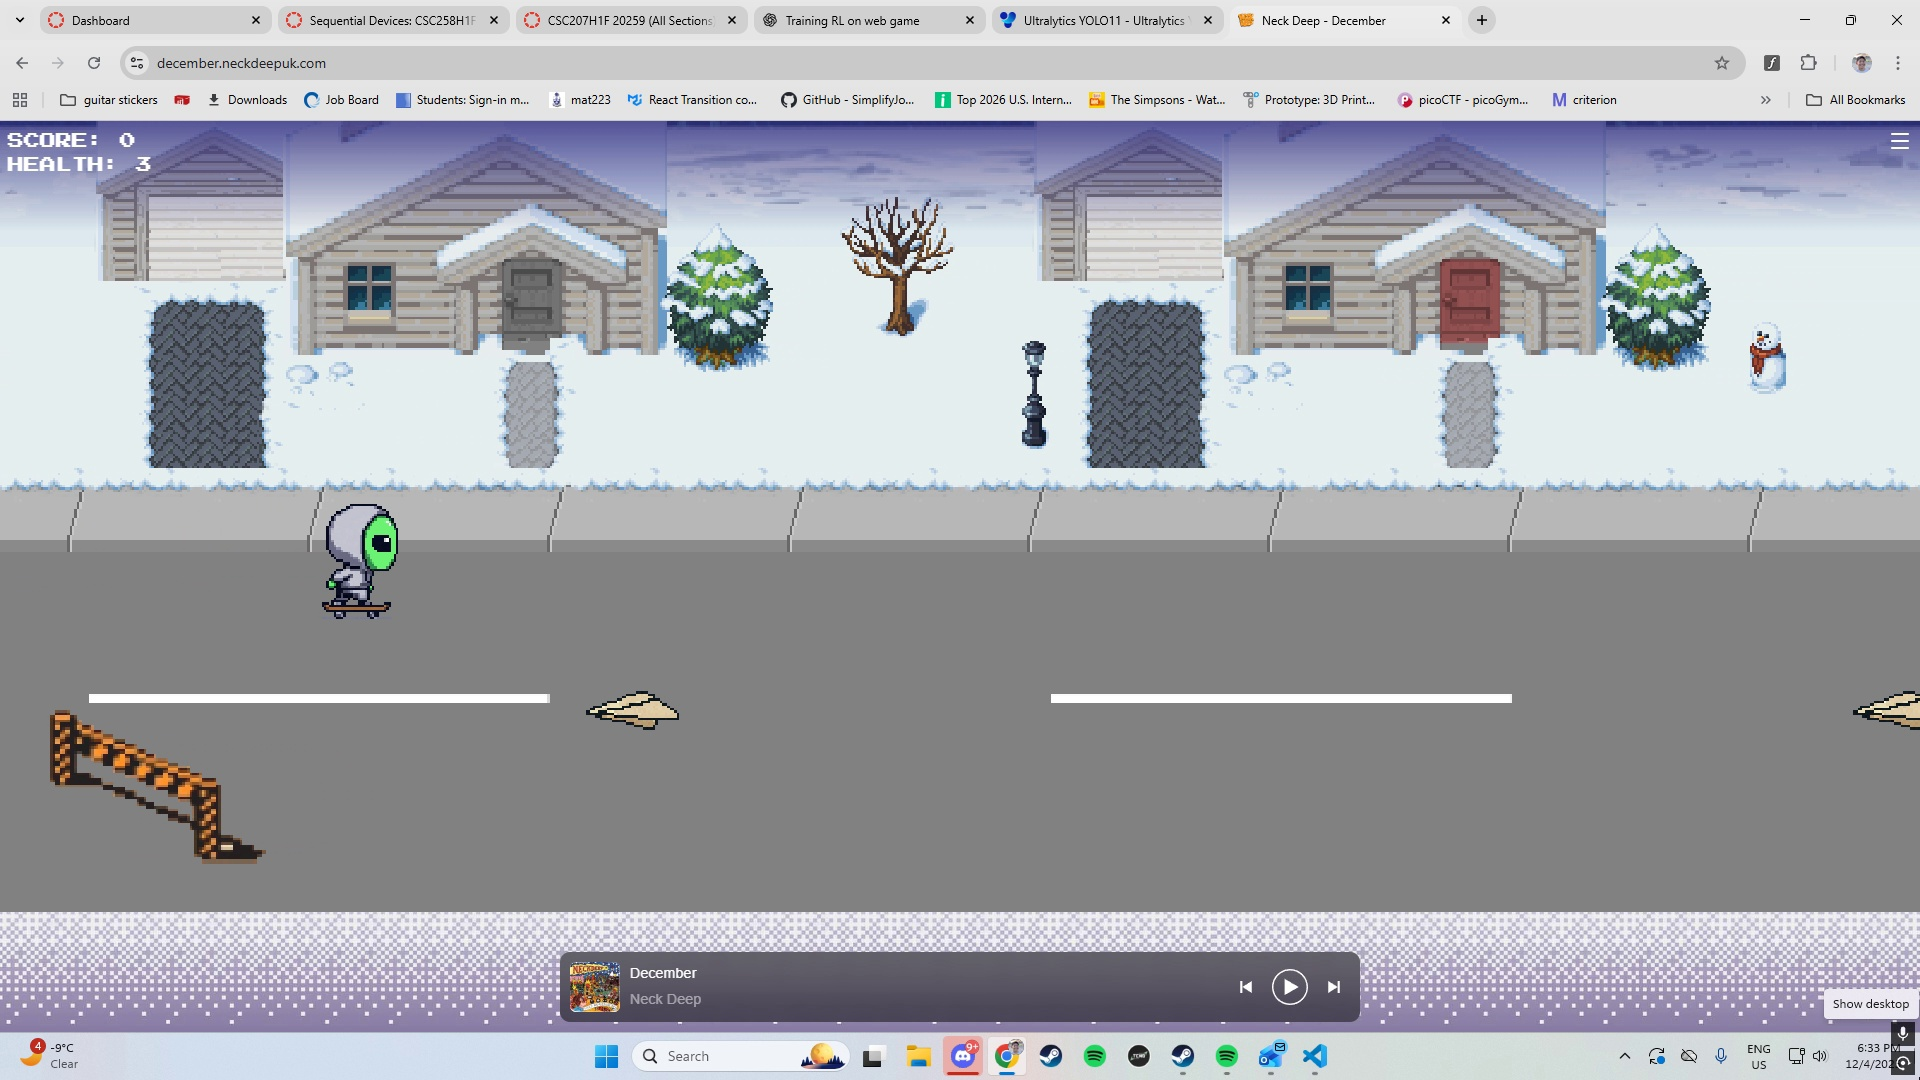Plane: (569, 681, 697, 737), (1834, 672, 1920, 742)
Player: (306, 499, 419, 631)
RoadBlock: (32, 691, 274, 880)
